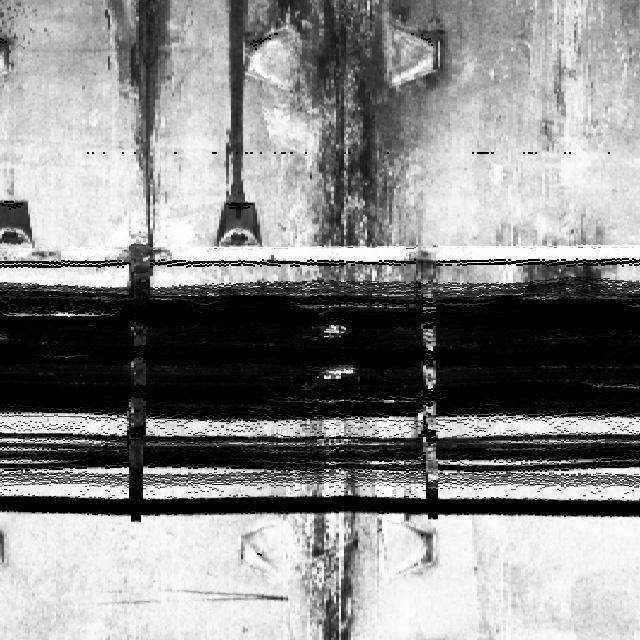leakage: (294, 0, 418, 282), (280, 481, 390, 639), (105, 0, 176, 230), (206, 0, 255, 205)
